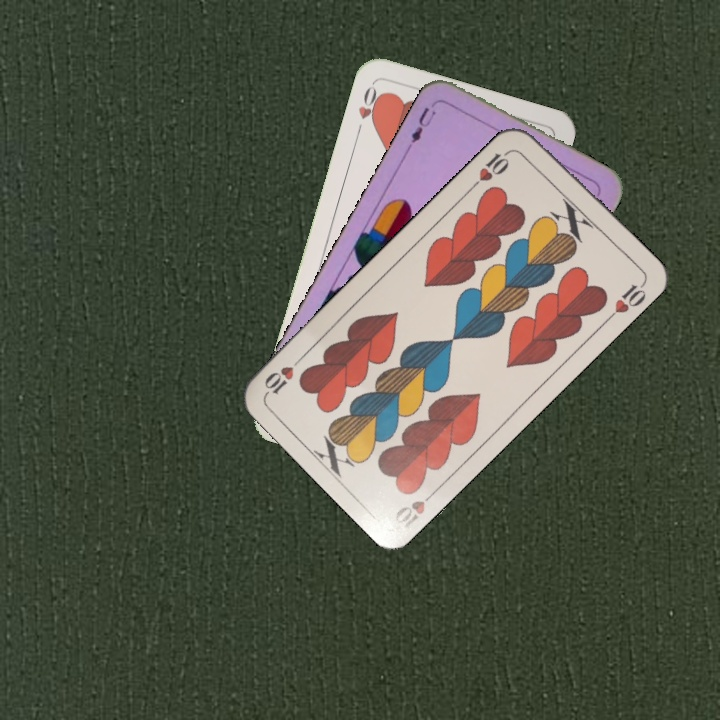EU: (407, 98, 439, 146)
H10: (390, 484, 441, 530), (468, 145, 515, 191)
HO: (352, 80, 385, 138)
